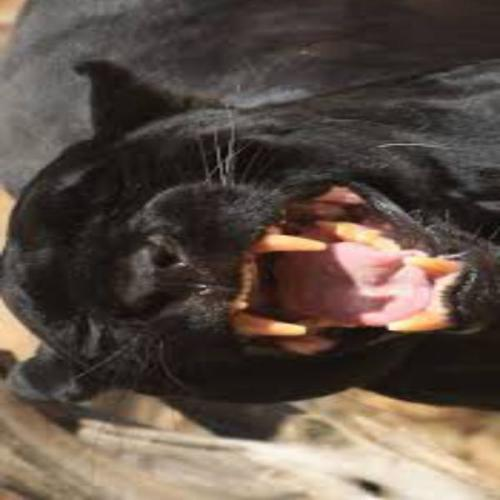panther-endangered: (7, 8, 500, 422)
